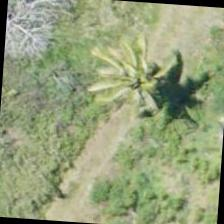Kelapa_Sawit: (104, 46, 200, 142)
